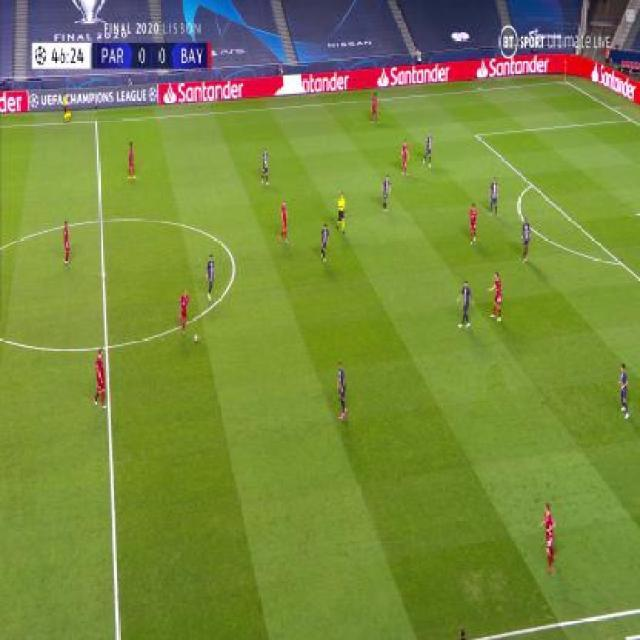ball: (193, 332, 199, 343)
player: (538, 501, 558, 574), (455, 279, 474, 330), (93, 347, 107, 409), (335, 359, 349, 421), (488, 269, 504, 322), (616, 363, 630, 419), (278, 199, 291, 245), (179, 287, 190, 335), (62, 219, 73, 265), (205, 253, 216, 299), (521, 217, 532, 263), (336, 192, 347, 235), (489, 176, 500, 218), (381, 172, 392, 214), (319, 222, 330, 262), (126, 141, 137, 180), (399, 138, 410, 177), (469, 202, 478, 244), (422, 132, 433, 166), (261, 147, 270, 186), (371, 91, 379, 124), (62, 93, 71, 122)
